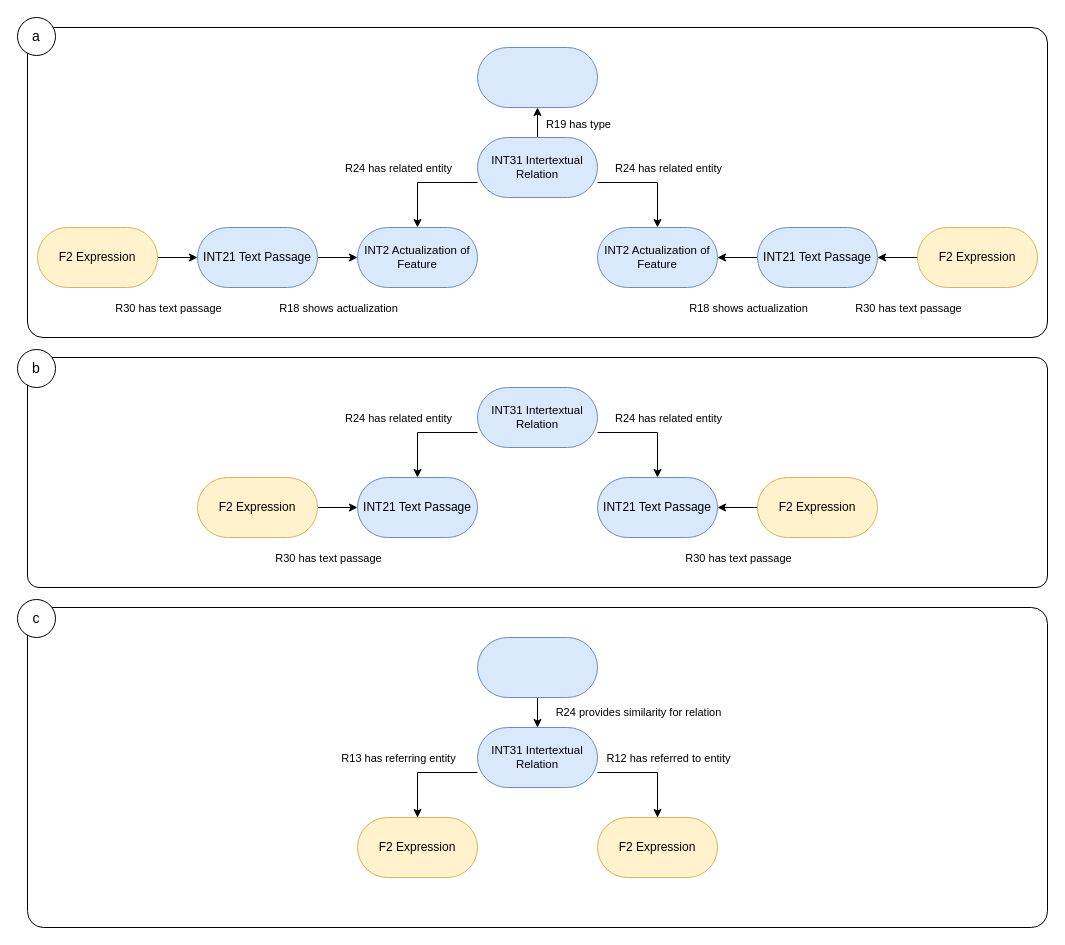
This 1065x945 diagram has some shape labels left out. Each missing label, with the centre of its shape:
"INT11 Type of Interrelation" belongs at point 537,77.
"INT4 Feature" belongs at point 537,667.
